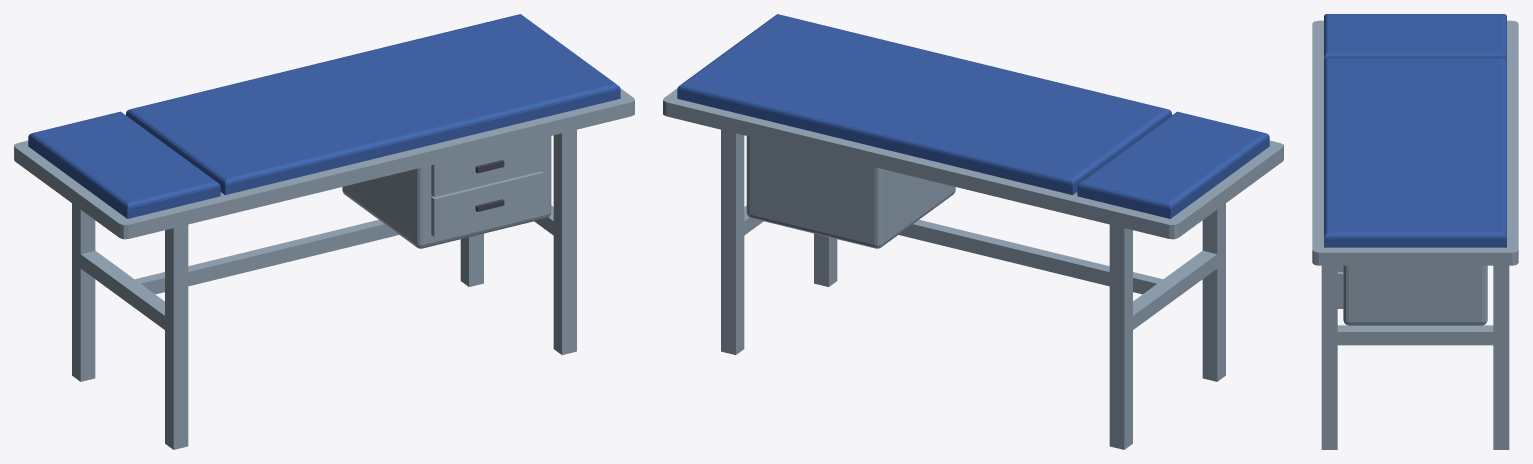
File: MesaExame.fbx
3 renders of one model, left to right at view 1: azimuth 30°, elevation 25°; view 2: azimuth 150°, elevation 25°; view 3: azimuth 270°, elevation 25°, orthographic. The views are drawn at different scales.
Parts seen in each view (by area): view 1: Cube; view 2: Cube; view 3: Cube.
Part boxes in pixels (left/top/right/bottom): Cube: left=14, top=14, right=634, bottom=449; Cube: left=663, top=14, right=1283, bottom=449; Cube: left=1312, top=14, right=1518, bottom=449.
Size of the model in its own units: 190 by 90 by 71.35.
